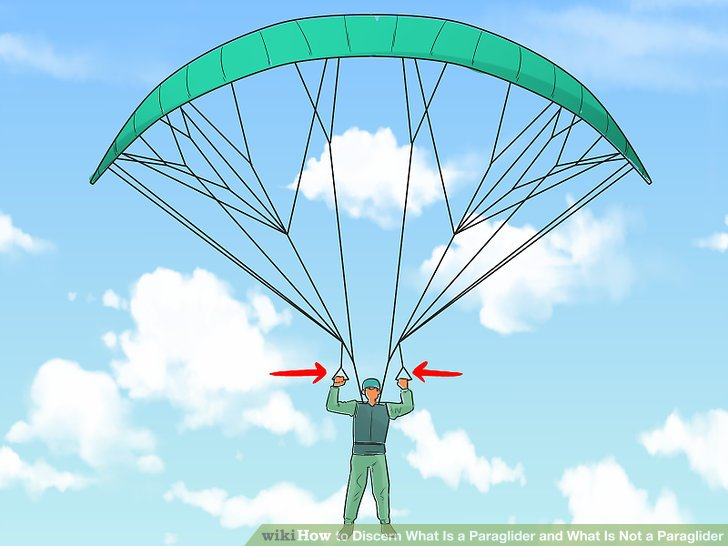Paraglider: (85, 8, 654, 240)
